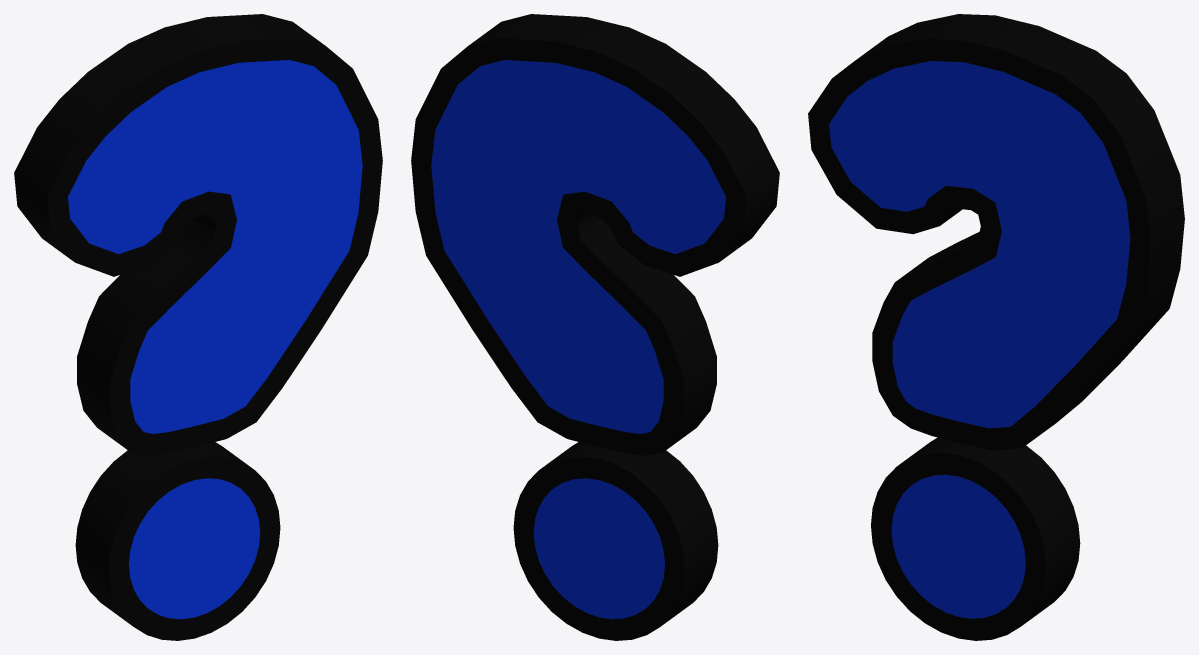
Rendered from event_icon.glb.
3 renders of one model, left to right at view 1: azimuth 30°, elevation 25°; view 2: azimuth 150°, elevation 25°; view 3: azimuth 330°, elevation 25°, orthographic. The views are drawn at different scales.
Visible parts, largest first — view 1: Circle; view 2: Circle; view 3: Circle.
Part boxes in pixels (x1=…): Circle: x1=14, y1=14, x2=382, y2=640; Circle: x1=411, y1=14, x2=779, y2=640; Circle: x1=808, y1=14, x2=1184, y2=640.
Bounding box in the file's own units: 2.03 × 3.38 × 0.3466.
